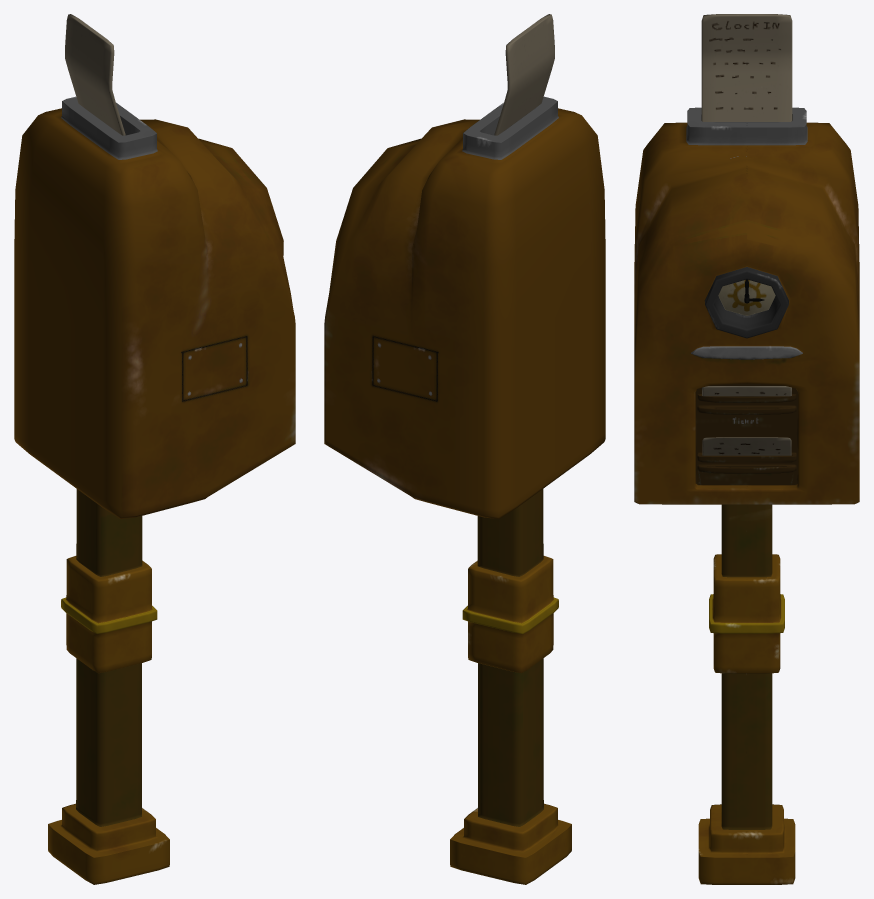
The model's file is PunchInStation.fbx.
The picture shows the model from 3 angles, left to right: view 1: azimuth 30°, elevation 25°; view 2: azimuth 150°, elevation 25°; view 3: azimuth 270°, elevation 25°; orthographic projection.
Parts seen in each view (by area): view 1: PunchCardMachine; view 2: PunchCardMachine; view 3: PunchCardMachine.
Part boxes in pixels (box(x1,y1,x2,y2)): PunchCardMachine: box(14, 14, 295, 884); PunchCardMachine: box(324, 14, 605, 884); PunchCardMachine: box(634, 14, 859, 884).
Size of the model in its own units: 36.96 by 153 by 34.98.
